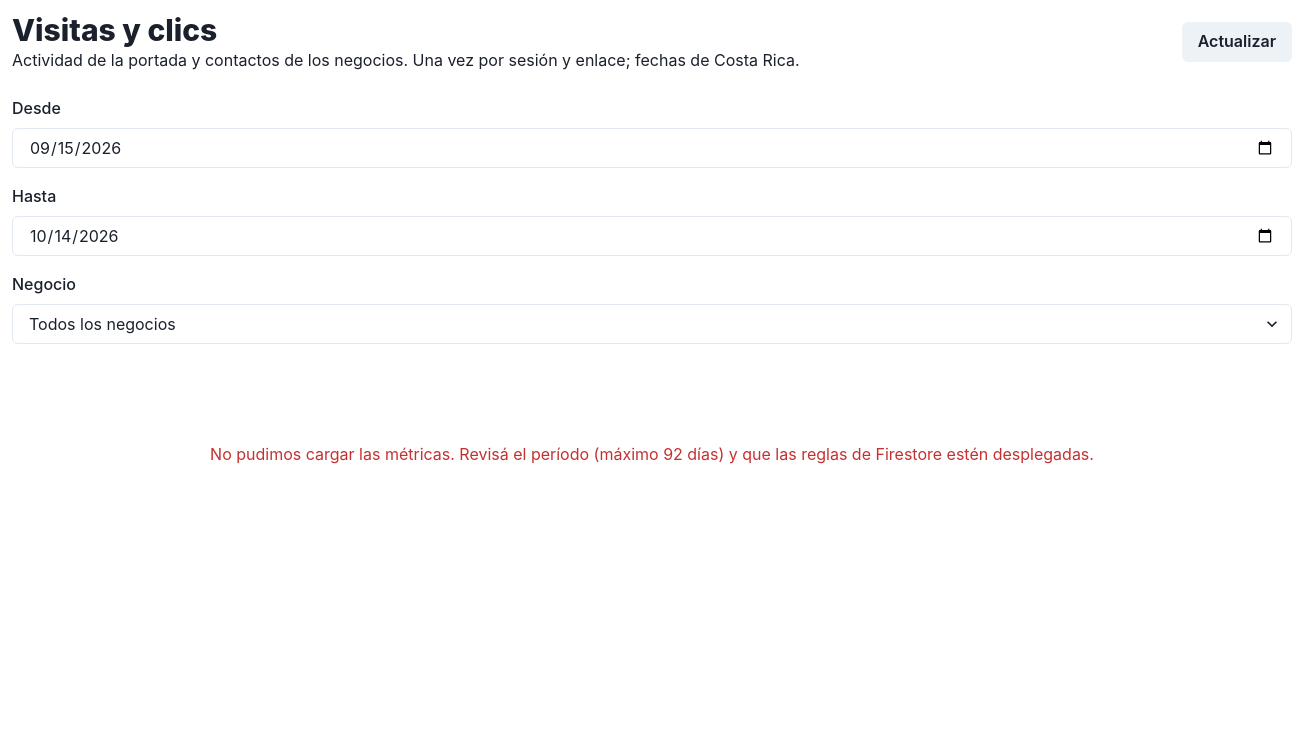
Test: shows a recoverable failure instead of false zero counts
Expected: the message is shown, [210,444,1094,464]
Click the button "Actualizar" at (1237, 42), box [1182,22,1292,62]
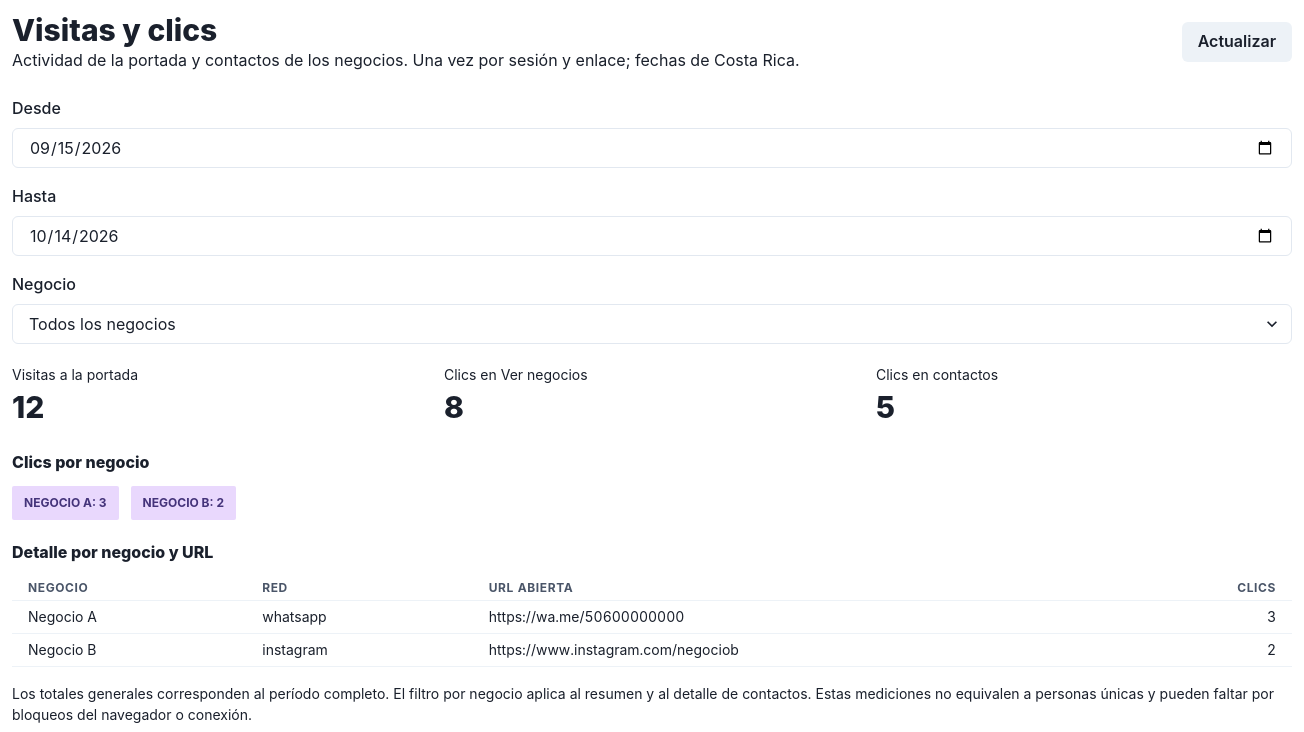
Result: the text "https://wa.me/50600000000" is shown at [489,608,684,625]
